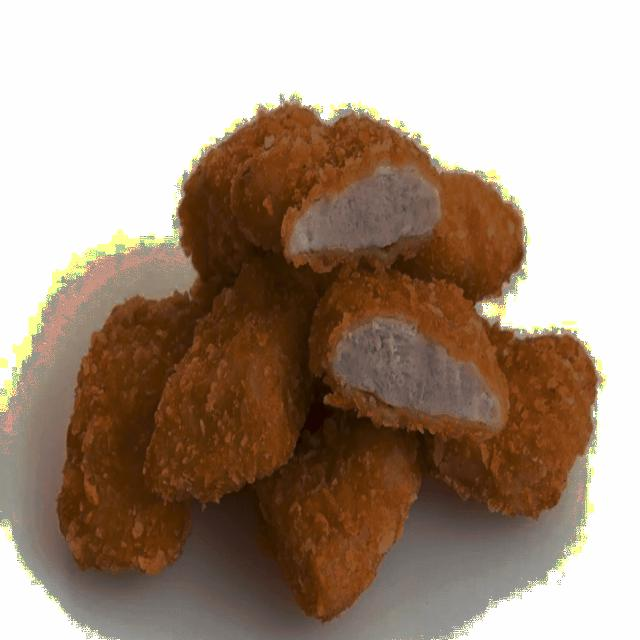chicken_nuggets: (145, 259, 324, 510), (307, 254, 518, 457)
